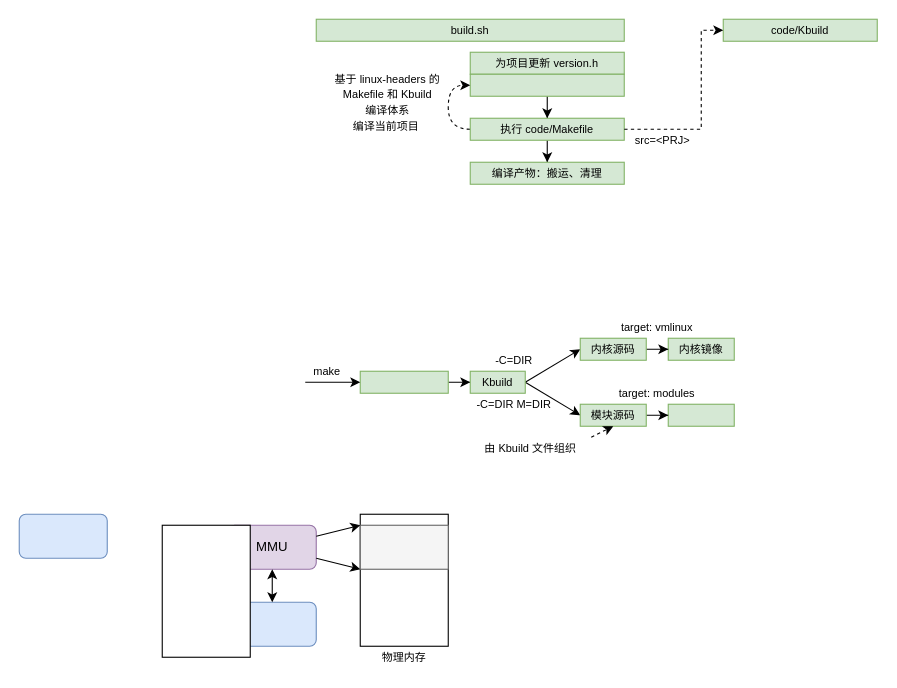
Some shapes in this 897 by 688 pixel diagram are drawn without their labels. The centre of each missing label's shape, as x and y in pixels:
"Makefile" goes at [403,381].
"内核模块" goes at [700,414].
"拉取定制 linux-headers" goes at [546,84].
"操作系统 内存管理" goes at [271,623].
"进程" goes at [62,535].
